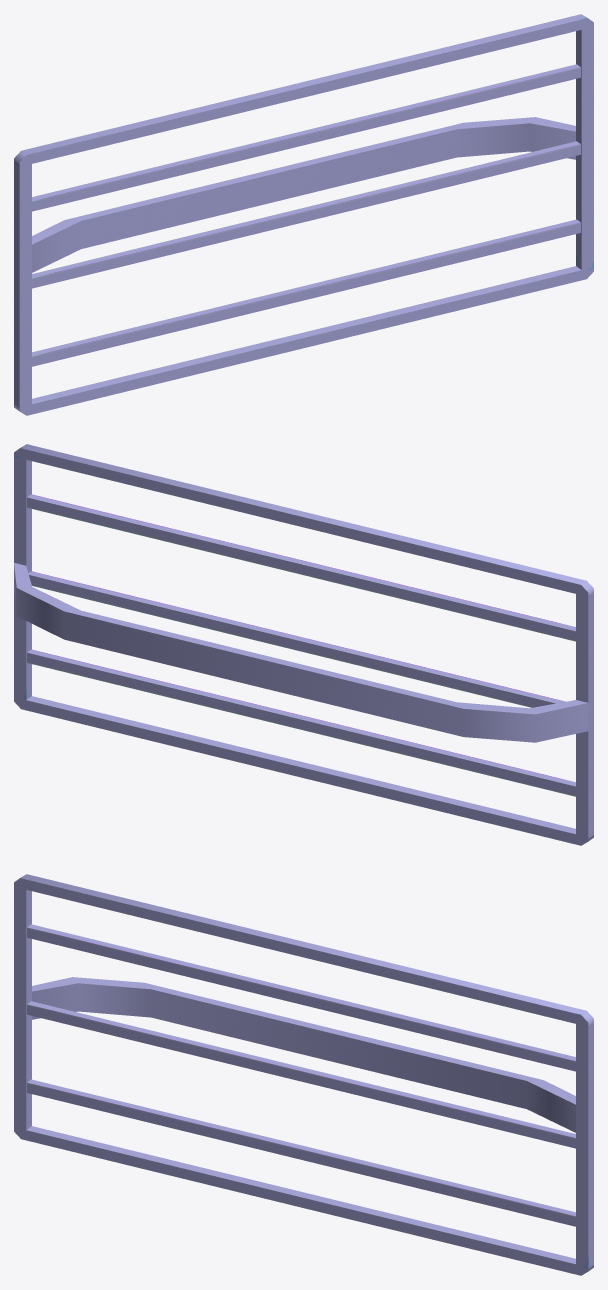
File: LitFloodLightFrameA1.fbx
3 views of the same model, one above another, from view 1: azimuth 30°, elevation 25°; view 2: azimuth 150°, elevation 25°; view 3: azimuth 330°, elevation 25° (orthographic).
Visible parts, largest first — view 1: LitFloodLightFrameA1; view 2: LitFloodLightFrameA1; view 3: LitFloodLightFrameA1.
Boxes of the visible parts, x1=… form: LitFloodLightFrameA1: x1=14, y1=14, x2=593, y2=415; LitFloodLightFrameA1: x1=14, y1=444, x2=593, y2=845; LitFloodLightFrameA1: x1=14, y1=874, x2=593, y2=1275.
Size of the model in its own units: 187 by 81.4 by 24.27.
Materials: 1 (1 with a texture image).
